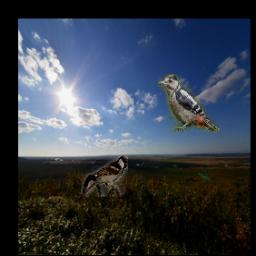Sparrow: (81, 156, 128, 198)
Woodpecker: (158, 74, 220, 131)
